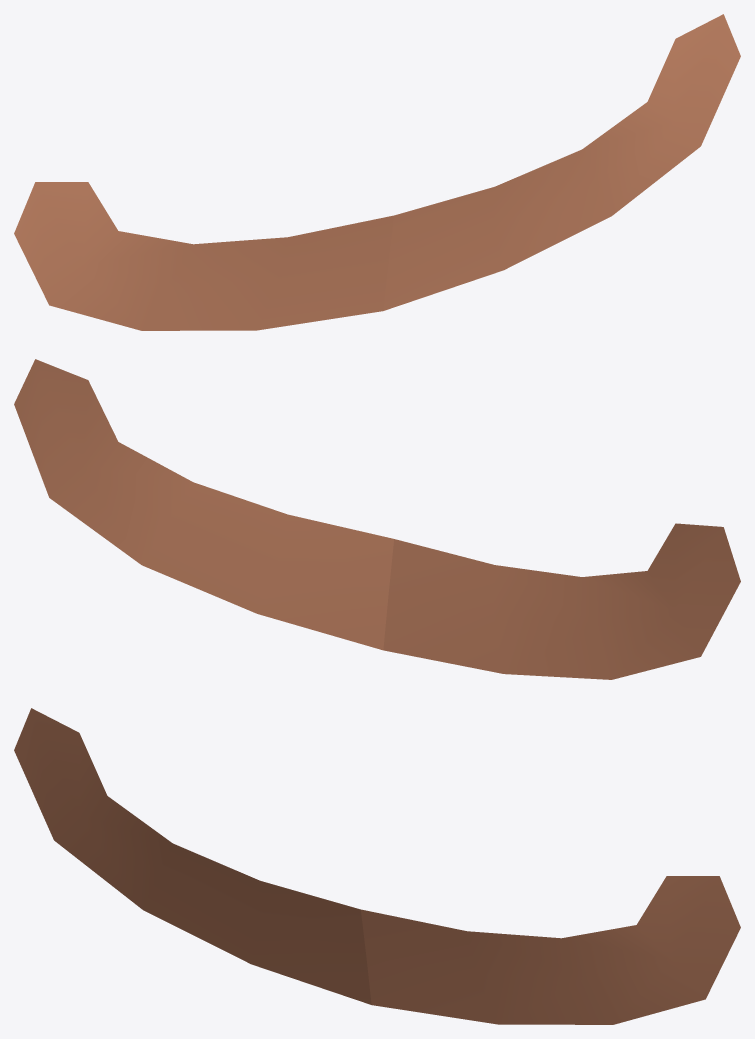
The model's file is Mouth_White_2.fbx.
The picture shows the model from 3 angles, top to bottom: view 1: azimuth 30°, elevation 25°; view 2: azimuth 150°, elevation 25°; view 3: azimuth 330°, elevation 25°; orthographic projection.
Parts seen in each view (by area): view 1: Mouth_White_2; view 2: Mouth_White_2; view 3: Mouth_White_2.
Boxes of the visible parts, x1,y1,x2,y2 form: Mouth_White_2: (14,14,740,330); Mouth_White_2: (14,359,740,679); Mouth_White_2: (14,708,740,1024).
Bounding box in the file's own units: 8.79 × 2.43 × 0.3997.
